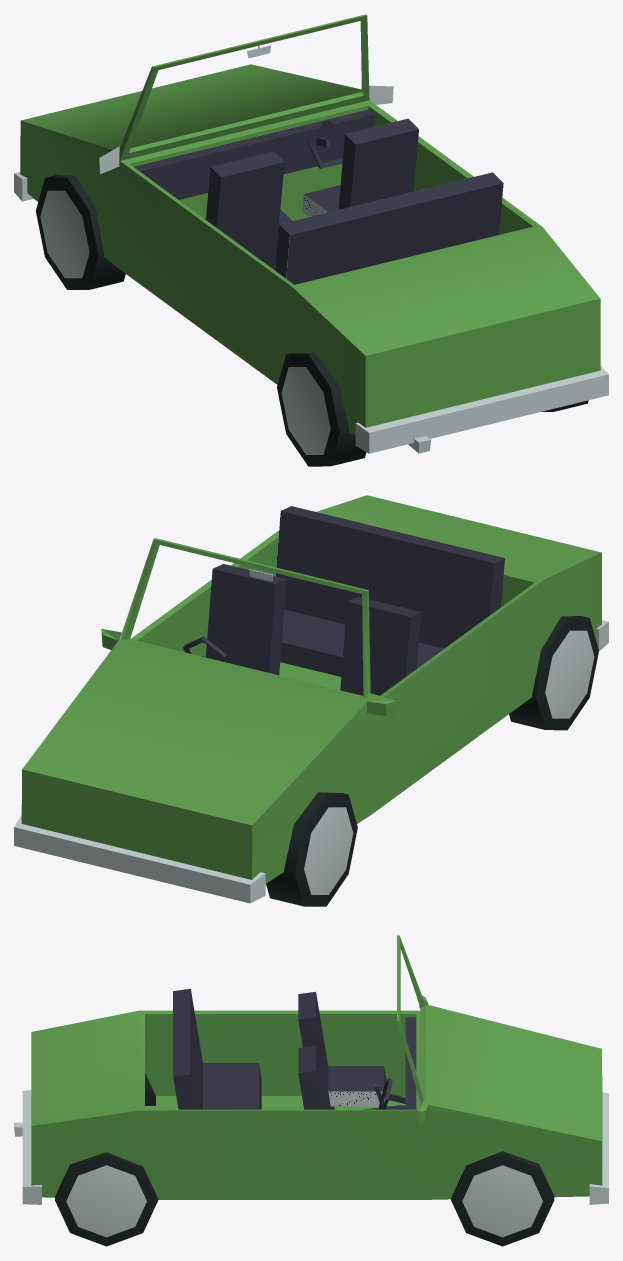
File: PlayerCar.fbx
3 views of the same model, one above another, from view 1: azimuth 30°, elevation 25°; view 2: azimuth 150°, elevation 25°; view 3: azimuth 270°, elevation 25° (orthographic). The views are drawn at different scales.
Parts seen in each view (by area): view 1: Body, BackSeat, Dashboard, Bumper, tire4, RightSeat, LeftSeat, tire2, Mirrors; view 2: Body, BackSeat, RightSeat, tire2, Bumper, tire4, LeftSeat, Mirrors; view 3: Body, tire1, tire3, BackSeat, LeftSeat, Bumper, Dashboard, RightSeat.
Boxes of the visible parts, x1,y1,x2,y2 form: Body: (20, 14, 600, 435); BackSeat: (275, 172, 503, 284); Dashboard: (134, 109, 374, 262); Bumper: (14, 172, 608, 453); tire4: (277, 352, 366, 466); RightSeat: (302, 118, 418, 216); LeftSeat: (204, 151, 284, 270); tire2: (36, 175, 125, 289); Mirrors: (99, 45, 393, 174); Body: (21, 495, 601, 883); BackSeat: (275, 506, 504, 676); RightSeat: (205, 564, 286, 675); tire2: (266, 792, 357, 906); Bumper: (14, 620, 608, 903); tire4: (509, 616, 598, 730); LeftSeat: (340, 596, 421, 695); Mirrors: (101, 569, 395, 716); Body: (31, 935, 602, 1199); tire1: (451, 1151, 554, 1246); tire3: (55, 1152, 158, 1246); BackSeat: (173, 988, 261, 1109); LeftSeat: (298, 991, 386, 1109); Bumper: (22, 1090, 608, 1204); Dashboard: (364, 1017, 416, 1109); RightSeat: (298, 1045, 326, 1109).
Size of the model in its own units: 220 by 189 by 469.
